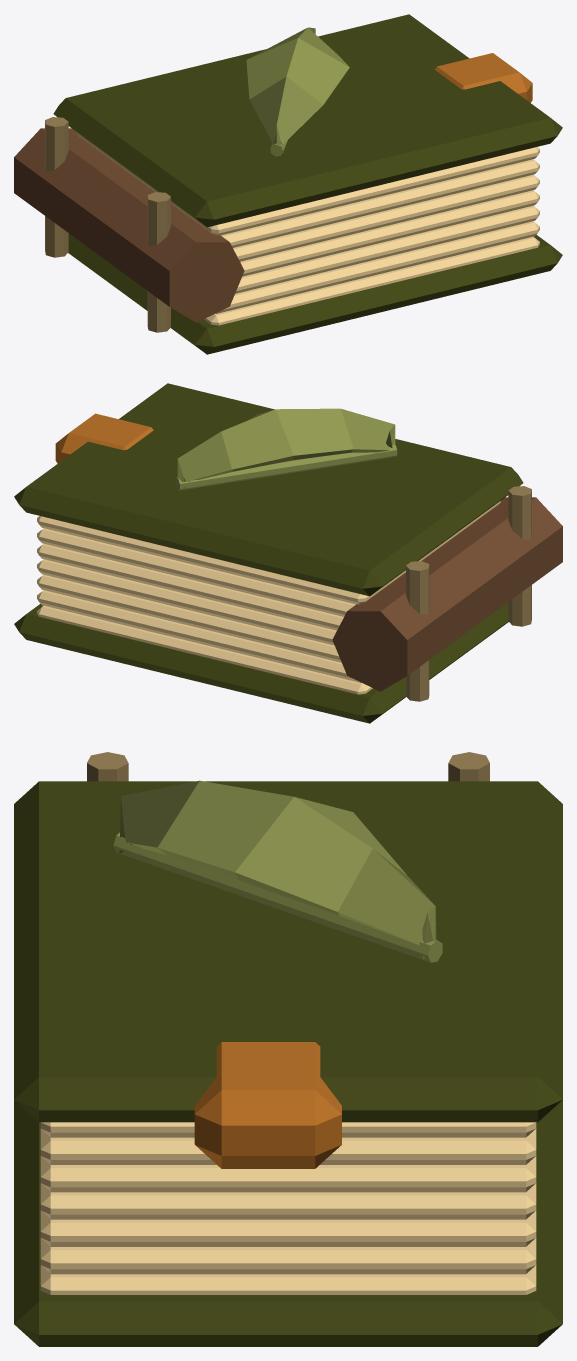
3 views of the same model, one above another, from view 1: azimuth 30°, elevation 25°; view 2: azimuth 150°, elevation 25°; view 3: azimuth 270°, elevation 25° (orthographic). The views are drawn at different scales.
Visible parts, largest first — view 1: leaf-ledger; view 2: leaf-ledger; view 3: leaf-ledger.
Boxes of the visible parts, box(x1,y1,x2,y2) form: leaf-ledger: box(14, 14, 562, 354); leaf-ledger: box(14, 383, 562, 723); leaf-ledger: box(14, 752, 562, 1346).
Bounding box in the file's own units: 1.28 × 0.6513 × 0.82.
